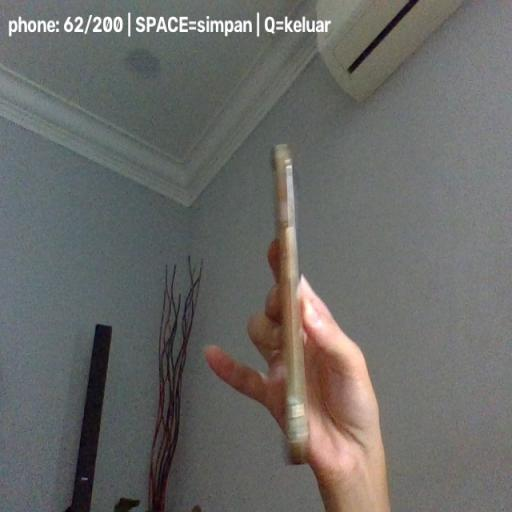Phone: (271, 143, 311, 465)
